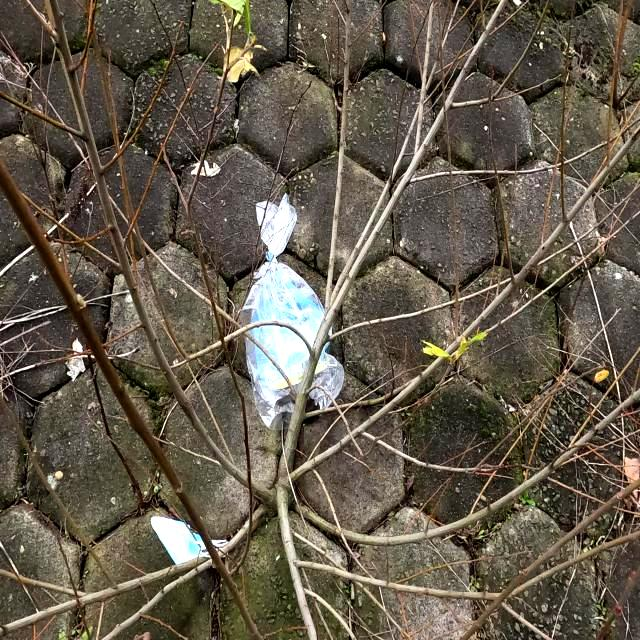Mask: (138, 496, 242, 568)
